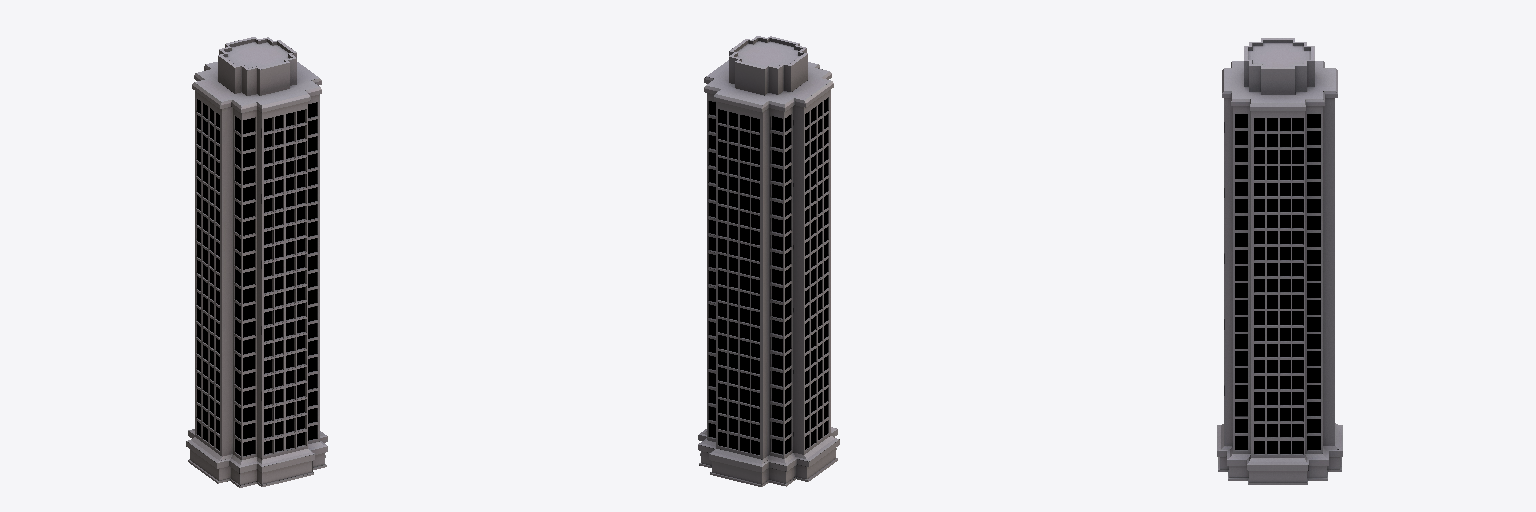
The picture shows the model from 3 angles: view 1: azimuth 30°, elevation 25°; view 2: azimuth 150°, elevation 25°; view 3: azimuth 270°, elevation 25°; orthographic projection.
Visible parts, largest first — view 1: Cube.035_Cube.097; view 2: Cube.035_Cube.097; view 3: Cube.035_Cube.097.
Boxes of the visible parts, box(x1,y1,x2,y2) form: Cube.035_Cube.097: box(186, 37, 327, 487); Cube.035_Cube.097: box(698, 36, 839, 486); Cube.035_Cube.097: box(1217, 38, 1342, 484).
Bounding box in the file's own units: 27.79 × 97.19 × 27.41.
Materials: 2 (1 with a texture image).